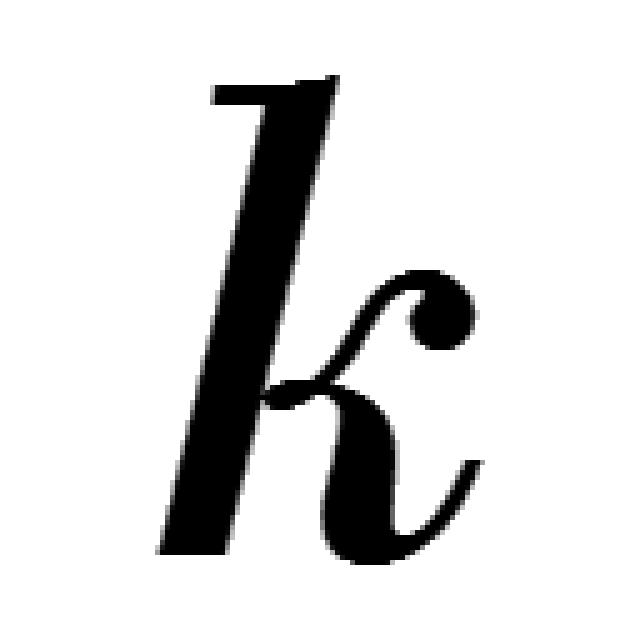K: (130, 67, 507, 543)
